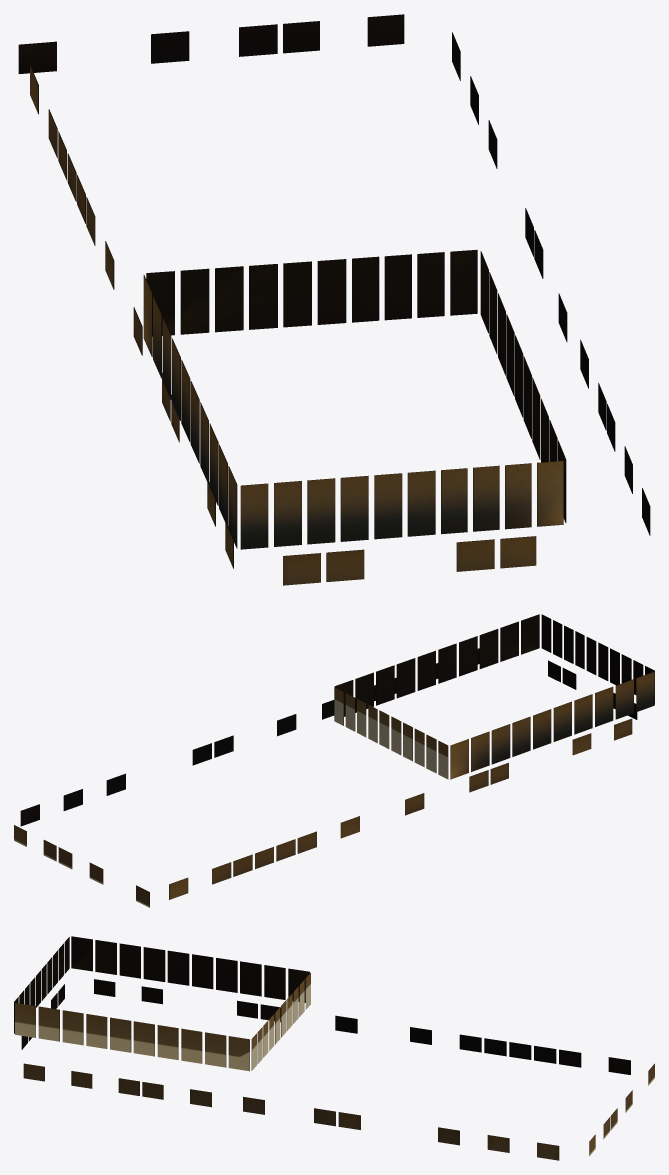
File: Building_05_Glass_Top.fbx
The picture shows the model from 3 angles, top to bottom: view 1: azimuth 30°, elevation 25°; view 2: azimuth 150°, elevation 25°; view 3: azimuth 270°, elevation 25°; orthographic projection. The views are drawn at different scales.
Parts seen in each view (by area): view 1: Building_05_Glass_Top; view 2: Building_05_Glass_Top; view 3: Building_05_Glass_Top.
Part boxes in pixels (<box>): Building_05_Glass_Top: <box>18,14,650,585</box>; Building_05_Glass_Top: <box>14,614,654,907</box>; Building_05_Glass_Top: <box>14,936,654,1160</box>.
Bounding box in the file's own units: 28.46 × 4.08 × 44.91.
1 material, 1 textured.
